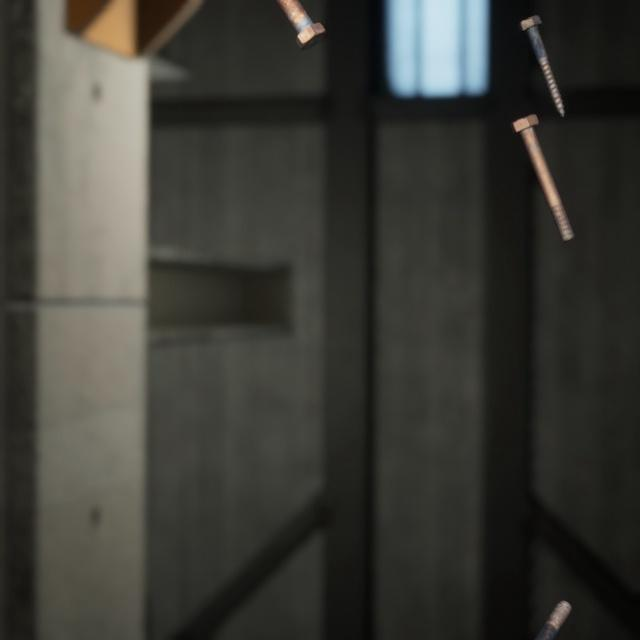bolt: (505, 95, 579, 232), (513, 1, 569, 110), (504, 572, 576, 640), (274, 0, 330, 48)
